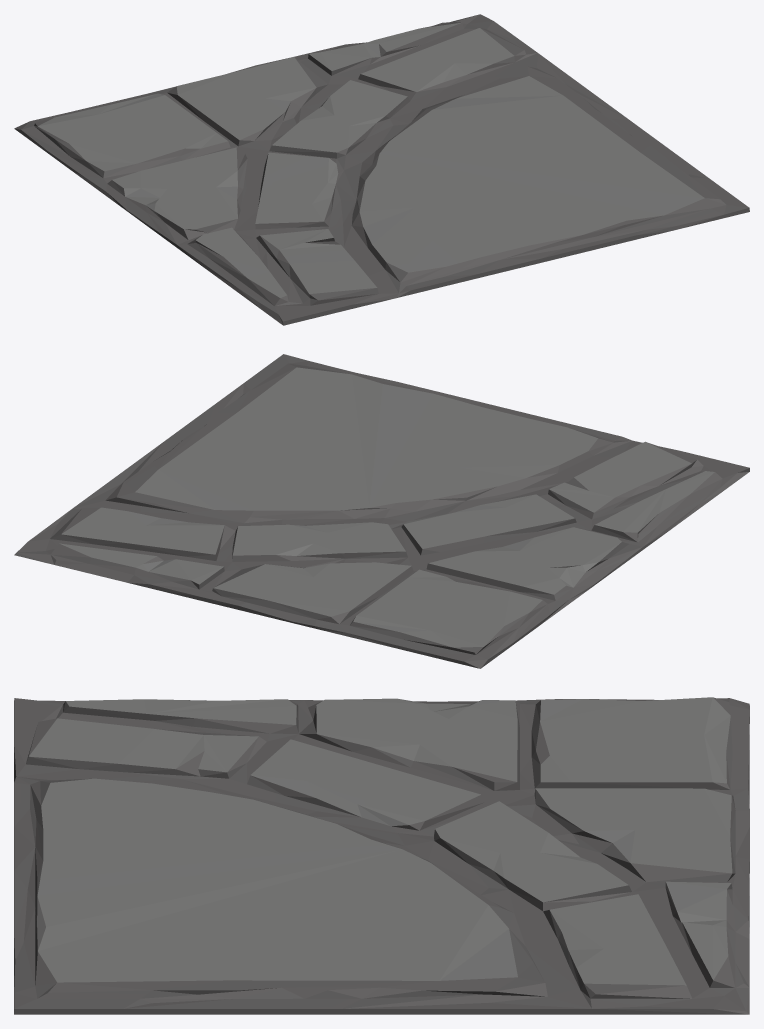
Rendered from SM_Env_Tiles_06.glb.
3 renders of one model, top to bottom at view 1: azimuth 30°, elevation 25°; view 2: azimuth 150°, elevation 25°; view 3: azimuth 270°, elevation 25°, orthographic. The views are drawn at different scales.
Parts seen in each view (by area): view 1: SM_Env_Tiles_06; view 2: SM_Env_Tiles_06; view 3: SM_Env_Tiles_06.
Boxes of the visible parts, bbox=[...] form: SM_Env_Tiles_06: bbox=[14, 14, 749, 325]; SM_Env_Tiles_06: bbox=[14, 354, 749, 668]; SM_Env_Tiles_06: bbox=[14, 697, 749, 1014].
Bounding box in the file's own units: 0.05 × 0.00101 × 0.05.
Materials: 1 (1 with a texture image).
